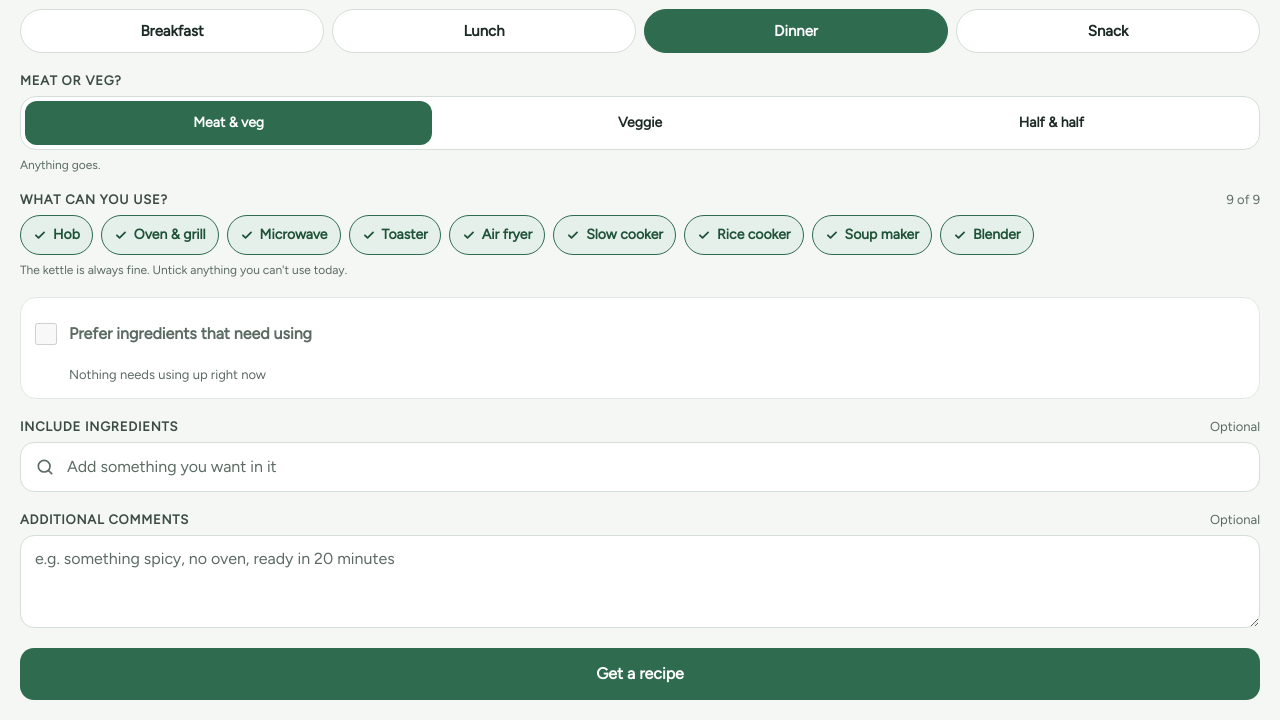
Test case: the recipe's meta line ends with its kit, and a warning shows as Check before cooking
(page scrolled)
Click the button "Get a recipe": [640, 674] box [20,648,1260,700]
(page scrolled)
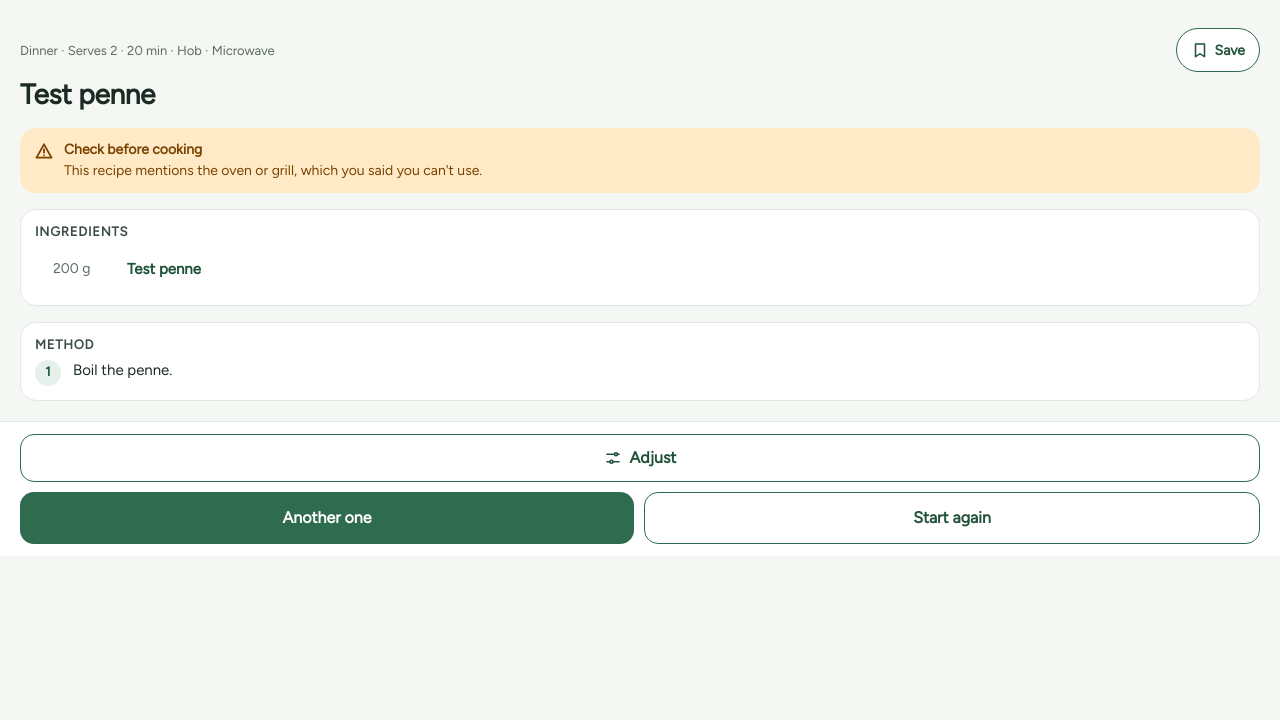
Expected: the text "Dinner · Serves 2 · 20 min · Hob · Microwave" is shown, [20,42,275,58]
Expected: the element that starts with "Check before cooking" is shown, [64,141,202,158]
Expected: the element that starts with "Check before cooking" shows "This recipe mentions the oven or grill, which you said you can't use.", [64,162,482,179]
